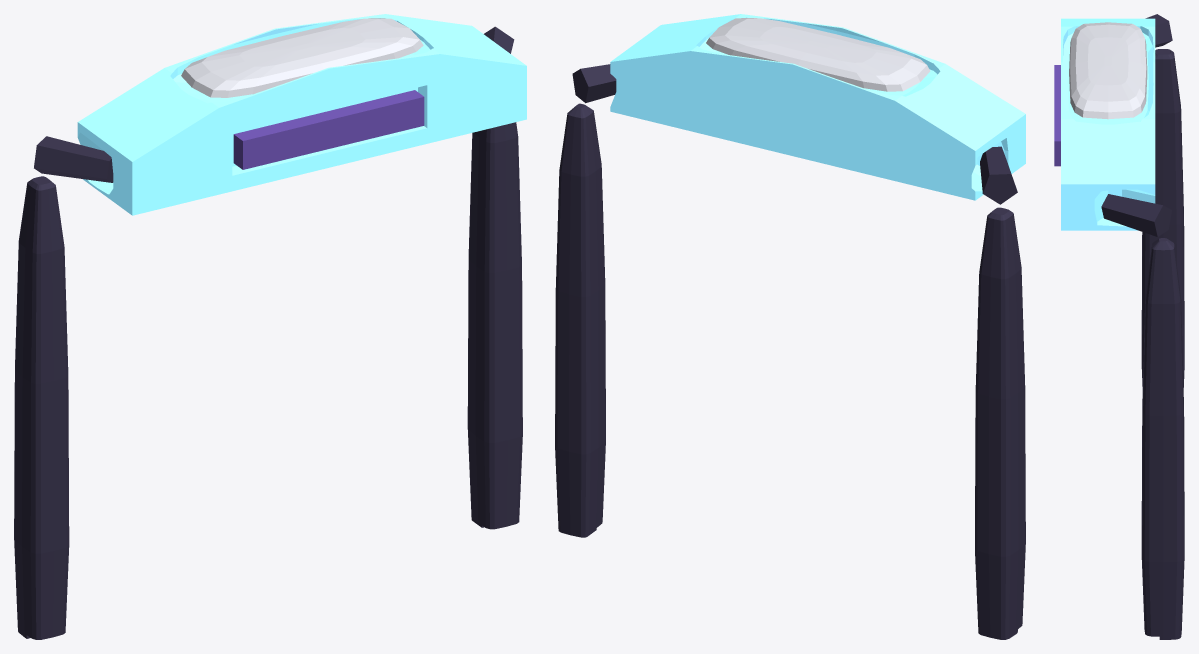
File: h02_lintel_right.fbx
3 views of the same model, side by side, from view 1: azimuth 30°, elevation 25°; view 2: azimuth 150°, elevation 25°; view 3: azimuth 270°, elevation 25° (orthographic). The views are drawn at different scales.
Parts seen in each view (by area): view 1: h02_lintel_right__Basalt, h02_lintel_right__Ice, h02_lintel_right__Snow, h02_lintel_right__Canvas; view 2: h02_lintel_right__Basalt, h02_lintel_right__Ice, h02_lintel_right__Snow; view 3: h02_lintel_right__Basalt, h02_lintel_right__Ice, h02_lintel_right__Snow, h02_lintel_right__Canvas.
Part boxes in pixels (<box>): h02_lintel_right__Basalt: <box>14,26,522,639</box>; h02_lintel_right__Ice: <box>77,14,526,215</box>; h02_lintel_right__Snow: <box>181,18,423,97</box>; h02_lintel_right__Canvas: <box>233,90,424,169</box>; h02_lintel_right__Basalt: <box>555,64,1025,639</box>; h02_lintel_right__Ice: <box>610,14,1025,200</box>; h02_lintel_right__Snow: <box>706,18,930,91</box>; h02_lintel_right__Basalt: <box>1101,14,1184,639</box>; h02_lintel_right__Ice: <box>1061,18,1155,230</box>; h02_lintel_right__Snow: <box>1069,22,1147,119</box>; h02_lintel_right__Canvas: <box>1054,65,1060,166</box>.
Size of the model in its own units: 6.25 by 6.71 by 1.66.
